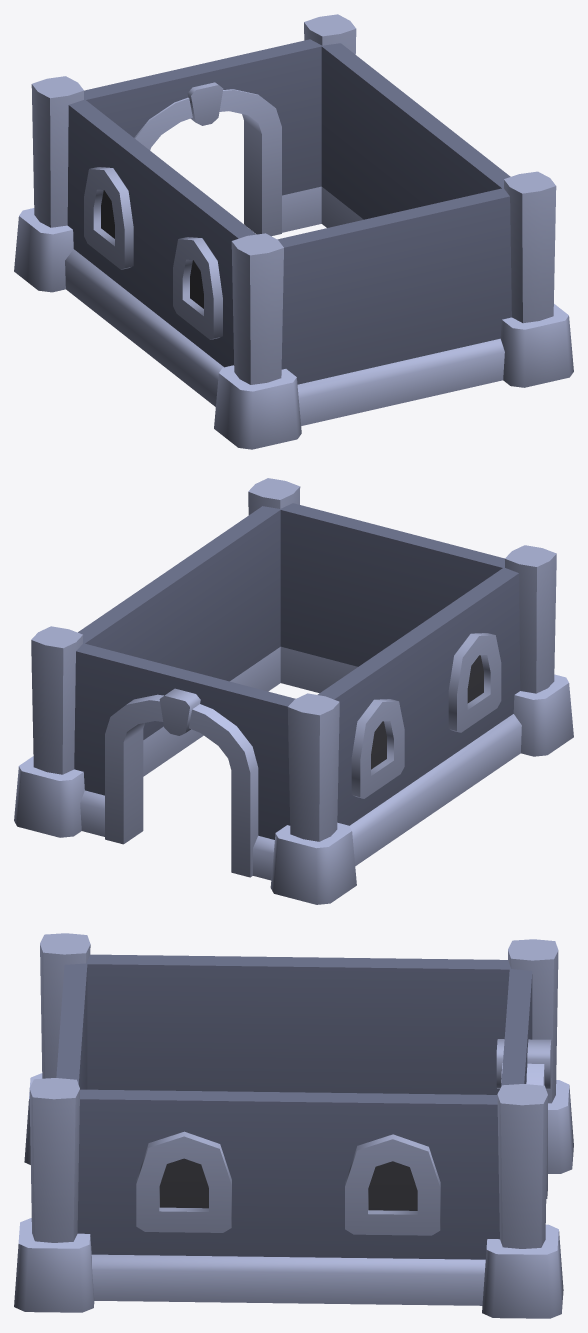
The model's file is crypt-large.003_lev3.glb.
3 renders of one model, top to bottom at view 1: azimuth 30°, elevation 25°; view 2: azimuth 150°, elevation 25°; view 3: azimuth 270°, elevation 25°, orthographic. The views are drawn at different scales.
Parts seen in each view (by area): view 1: crypt-large.003_lev3; view 2: crypt-large.003_lev3; view 3: crypt-large.003_lev3.
Part boxes in pixels (left/top/right/bottom): crypt-large.003_lev3: left=14, top=14, right=573, bottom=449; crypt-large.003_lev3: left=14, top=478, right=573, bottom=904; crypt-large.003_lev3: left=14, top=933, right=573, bottom=1318.
Bounding box in the file's own units: 6.79 × 3.54 × 8.68.
1 material, 1 textured.
